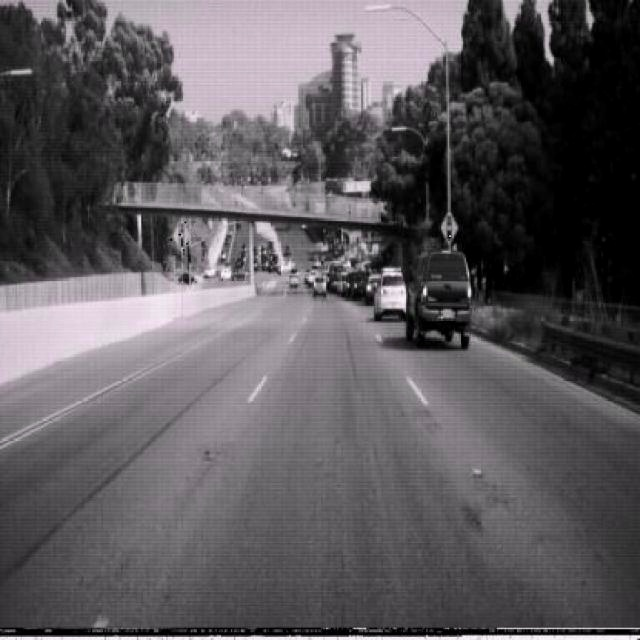signalAhead: (440, 208, 459, 247), (171, 215, 190, 252), (345, 203, 353, 217)
